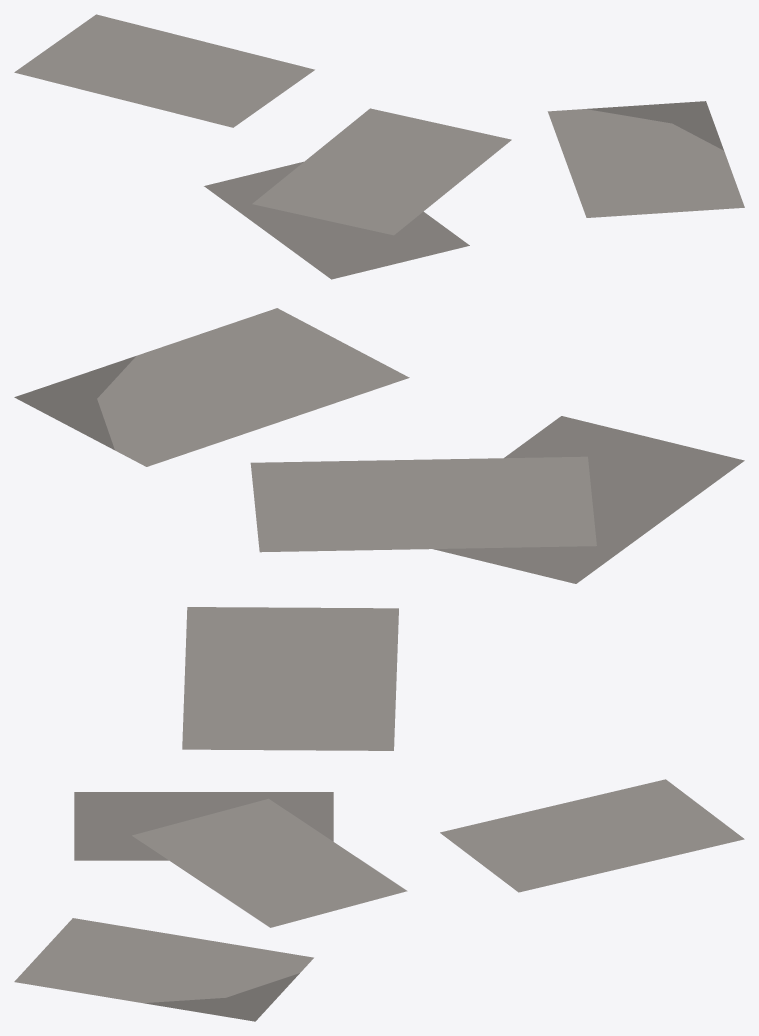
Rendered from AI_Env_Pages_01.fbx.
3 renders of one model, top to bottom at view 1: azimuth 30°, elevation 25°; view 2: azimuth 150°, elevation 25°; view 3: azimuth 270°, elevation 25°, orthographic. The views are drawn at different scales.
Visible parts, largest first — view 1: AI_Env_Pages_01; view 2: AI_Env_Pages_01; view 3: AI_Env_Pages_01.
Boxes of the visible parts, x1,y1,x2,y2 form: AI_Env_Pages_01: (14,14,744,279); AI_Env_Pages_01: (14,308,744,750); AI_Env_Pages_01: (14,779,744,1021).
Bounding box in the file's own units: 1.2 × 0.00333 × 1.53.
